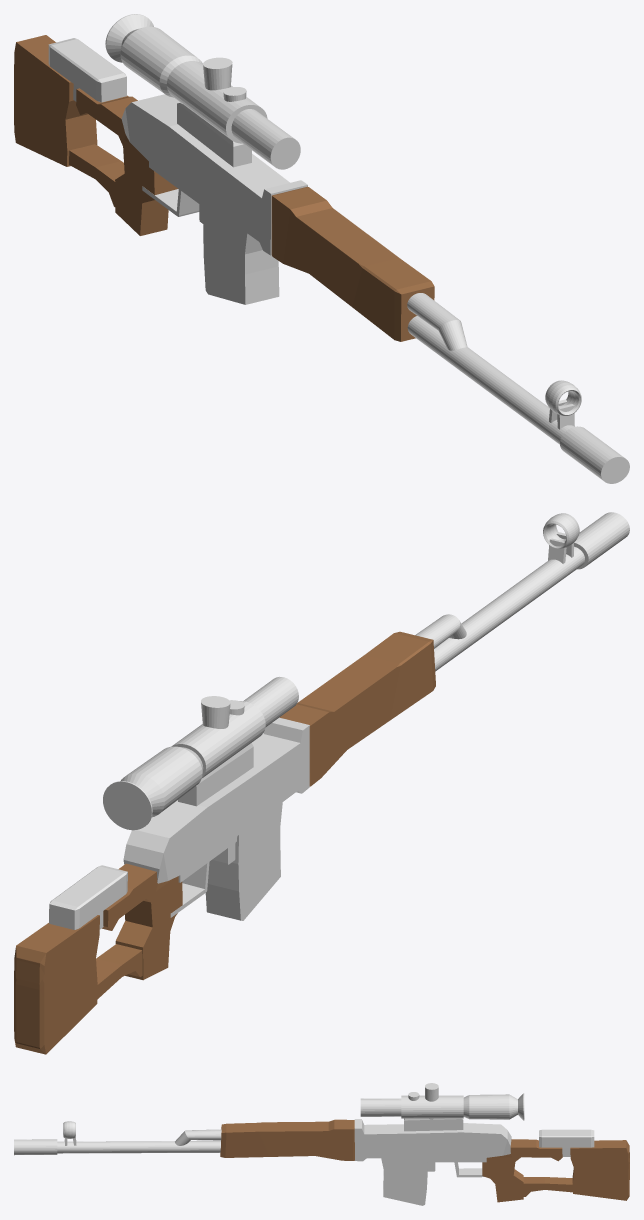
3 views of the same model, one above another, from view 1: azimuth 30°, elevation 25°; view 2: azimuth 150°, elevation 25°; view 3: azimuth 270°, elevation 25° (orthographic). The views are drawn at different scales.
Visible parts, largest first — view 1: Main.001, Main, Grip.001, Detail.002, Detail.009, Detail.013, Grip.002, Detail.001, Detail.012, Detail.014, Detail.011, Main.002 (+5 smaller); view 2: Main, Main.001, Grip.001, Detail.002, Detail.013, Detail.009, Grip.002, Detail.001, Detail.012, Detail.011, Grip, Main.002 (+5 smaller); view 3: Main, Main.001, Grip.001, Detail.009, Detail.002, Detail.013, Grip.002, Detail.012, Detail.001, Grip, Detail.014, Main.002 (+7 smaller).
Boxes of the visible parts, <box> form: Main.001: <box>271,186,434,341</box>; Main: <box>121,94,307,255</box>; Grip.001: <box>14,35,97,166</box>; Detail.002: <box>203,202,279,304</box>; Detail.009: <box>407,316,574,444</box>; Detail.013: <box>105,14,202,97</box>; Grip.002: <box>115,136,177,235</box>; Detail.001: <box>48,38,126,102</box>; Detail.012: <box>166,61,267,143</box>; Detail.014: <box>231,109,300,169</box>; Detail.011: <box>560,426,629,483</box>; Main.002: <box>177,102,251,167</box>; Main: <box>123,717,309,883</box>; Main.001: <box>279,631,435,786</box>; Grip.001: <box>14,915,99,1054</box>; Detail.002: <box>205,802,282,920</box>; Detail.013: <box>103,746,203,830</box>; Detail.009: <box>434,546,584,671</box>; Grip.002: <box>115,876,182,980</box>; Detail.001: <box>49,865,127,929</box>; Detail.012: <box>171,701,265,778</box>; Detail.011: <box>574,512,629,569</box>; Grip: <box>102,863,173,930</box>; Main.002: <box>178,743,253,806</box>; Main: <box>354,1119,511,1161</box>; Main.001: <box>220,1119,354,1160</box>; Grip.001: <box>570,1140,629,1200</box>; Detail.009: <box>57,1141,220,1153</box>; Detail.002: <box>381,1158,427,1205</box>; Detail.013: <box>463,1093,524,1120</box>; Grip.002: <box>482,1157,523,1202</box>; Detail.012: <box>401,1095,463,1118</box>; Detail.001: <box>539,1129,594,1147</box>; Grip: <box>490,1139,562,1161</box>; Detail.014: <box>360,1098,401,1116</box>; Main.002: <box>404,1118,463,1131</box>.
Size of the model in its own units: 0.5437 by 2.33 by 11.27.
